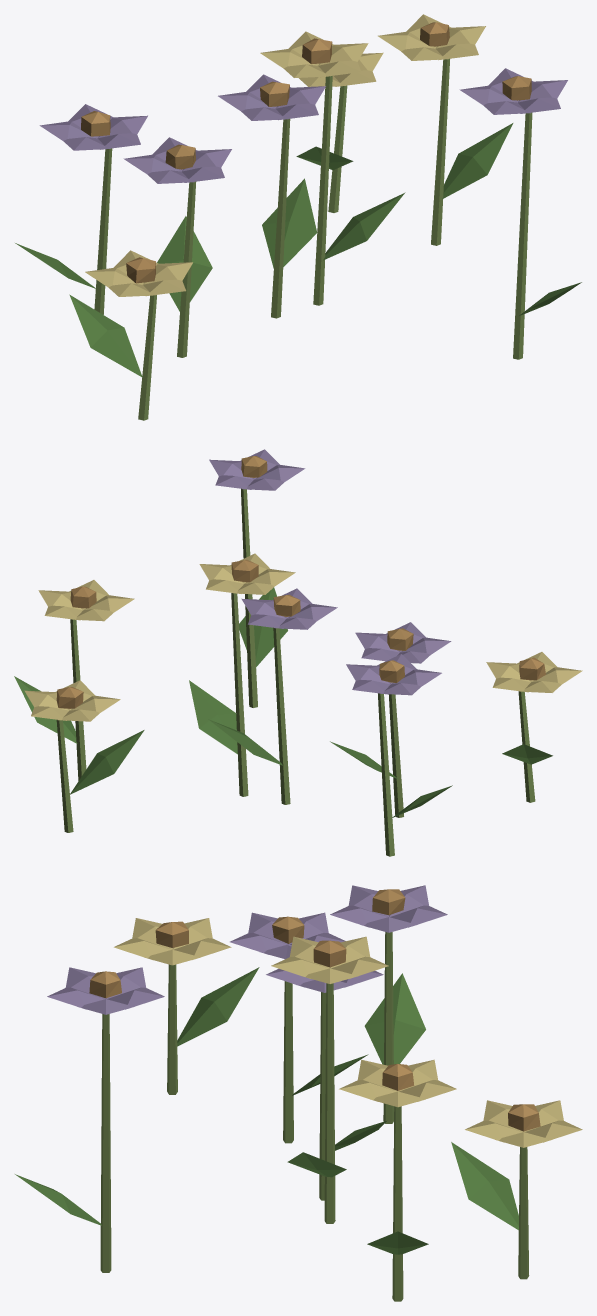
The model's file is Plant_Common_WildflowerPatch_001.glb.
3 renders of one model, top to bottom at view 1: azimuth 30°, elevation 25°; view 2: azimuth 150°, elevation 25°; view 3: azimuth 270°, elevation 25°, orthographic. The views are drawn at different scales.
Parts seen in each view (by area): view 1: Plant_Common_WildflowerPatch_001; view 2: Plant_Common_WildflowerPatch_001; view 3: Plant_Common_WildflowerPatch_001.
Boxes of the visible parts, x1,y1,x2,y2 form: Plant_Common_WildflowerPatch_001: (15,14,581,420); Plant_Common_WildflowerPatch_001: (14,449,582,856); Plant_Common_WildflowerPatch_001: (15,885,582,1301).
Size of the model in its own units: 1.33 by 0.6904 by 1.19.
